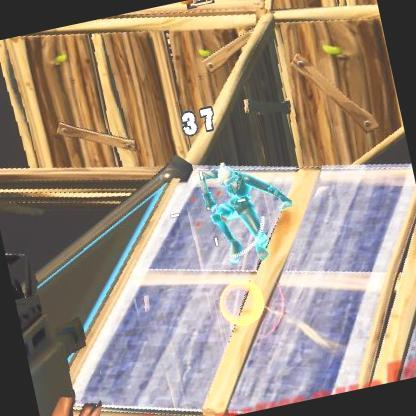person: (192, 158, 284, 274), (10, 278, 24, 300)
